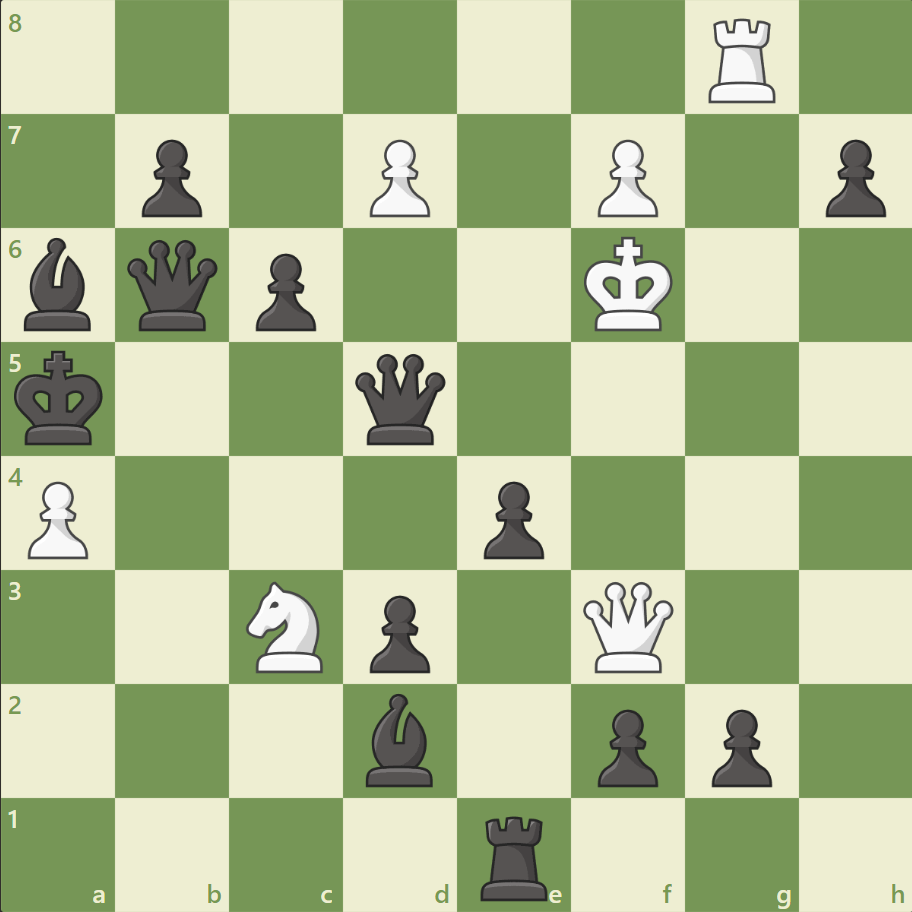K: (579, 231, 679, 339)
N: (238, 575, 335, 677)
P: (20, 473, 95, 564), (361, 132, 435, 223), (588, 132, 662, 223)
Q: (578, 576, 677, 676)
R: (700, 12, 783, 109)
b: (17, 233, 101, 336), (358, 687, 442, 790)
k: (11, 344, 111, 452)
p: (133, 132, 208, 223), (247, 246, 322, 337), (474, 473, 549, 564), (701, 700, 776, 791), (815, 132, 889, 223), (361, 586, 435, 677), (588, 700, 662, 791)
q: (351, 349, 450, 449), (124, 236, 223, 335)
r: (473, 806, 556, 904)
